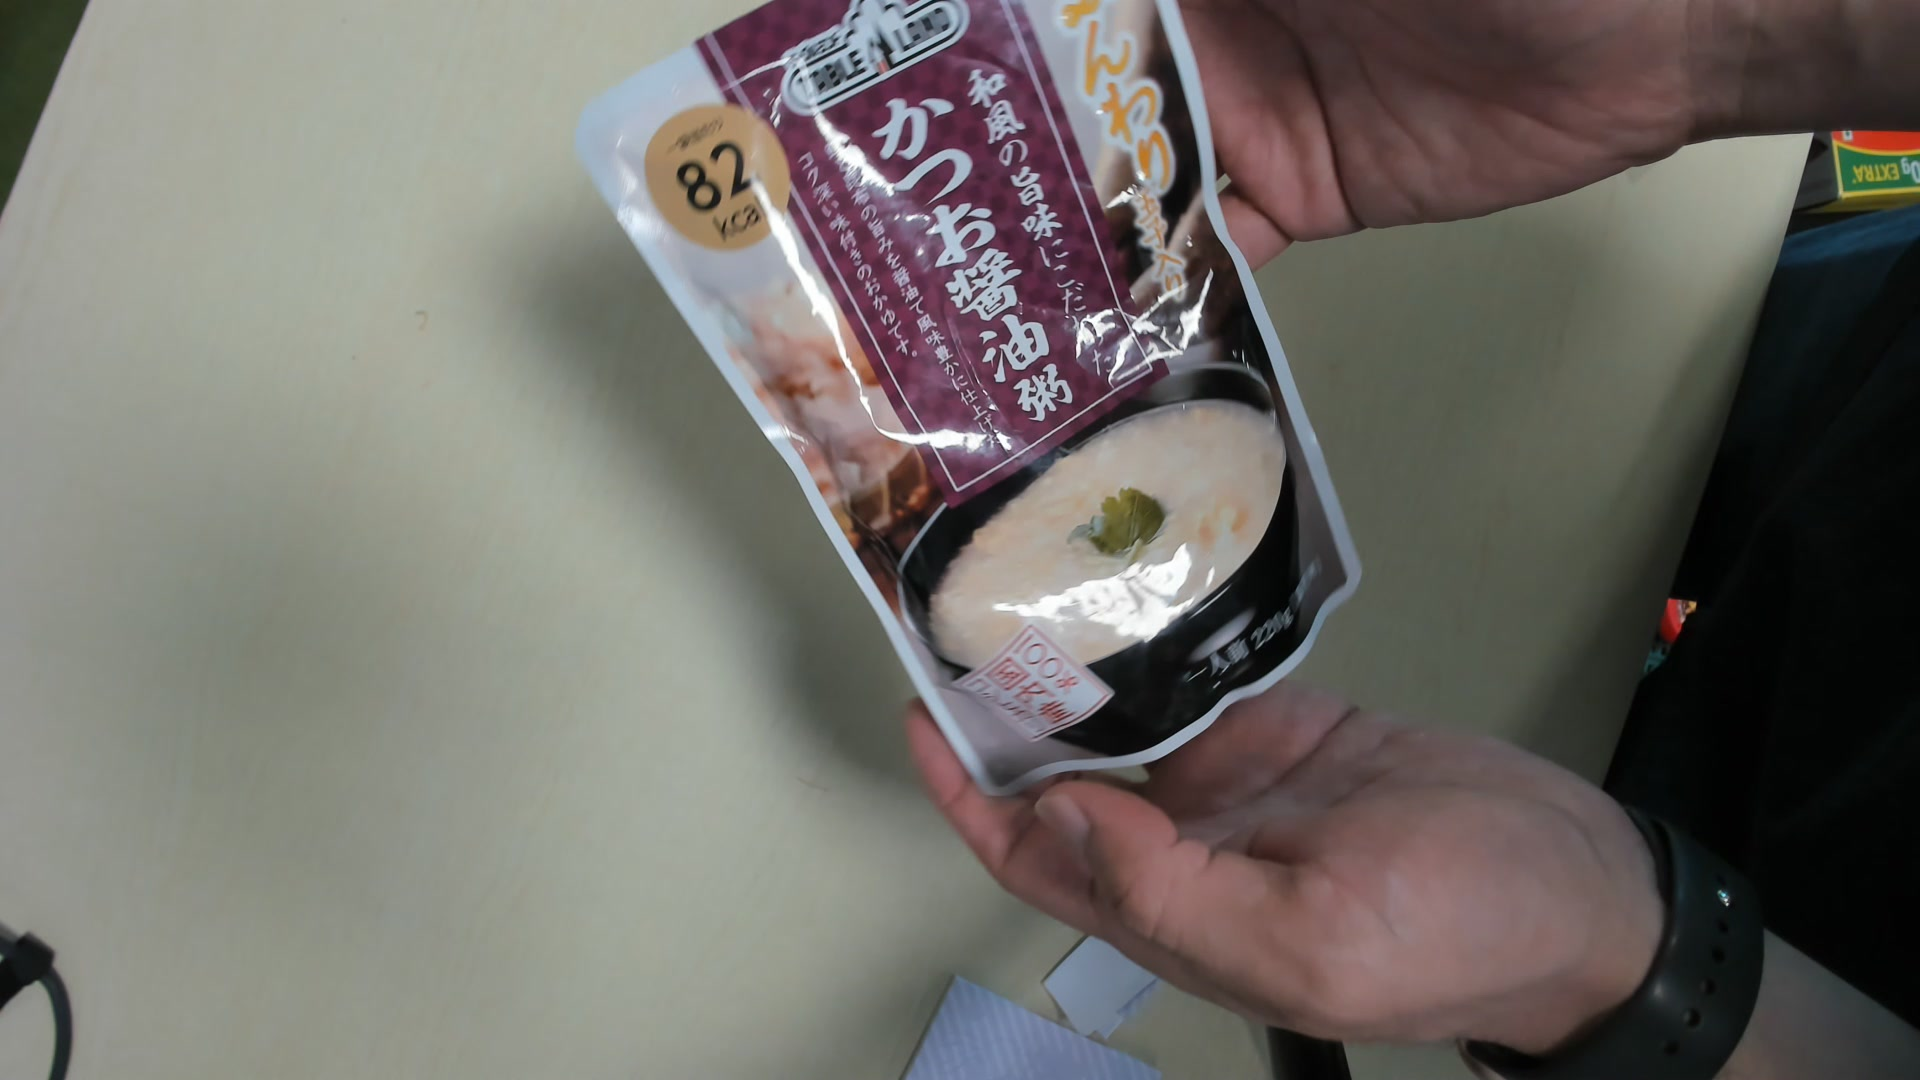InstantMeals_200_299g_NonHalal_NonHealthy: (567, 7, 1360, 806)
